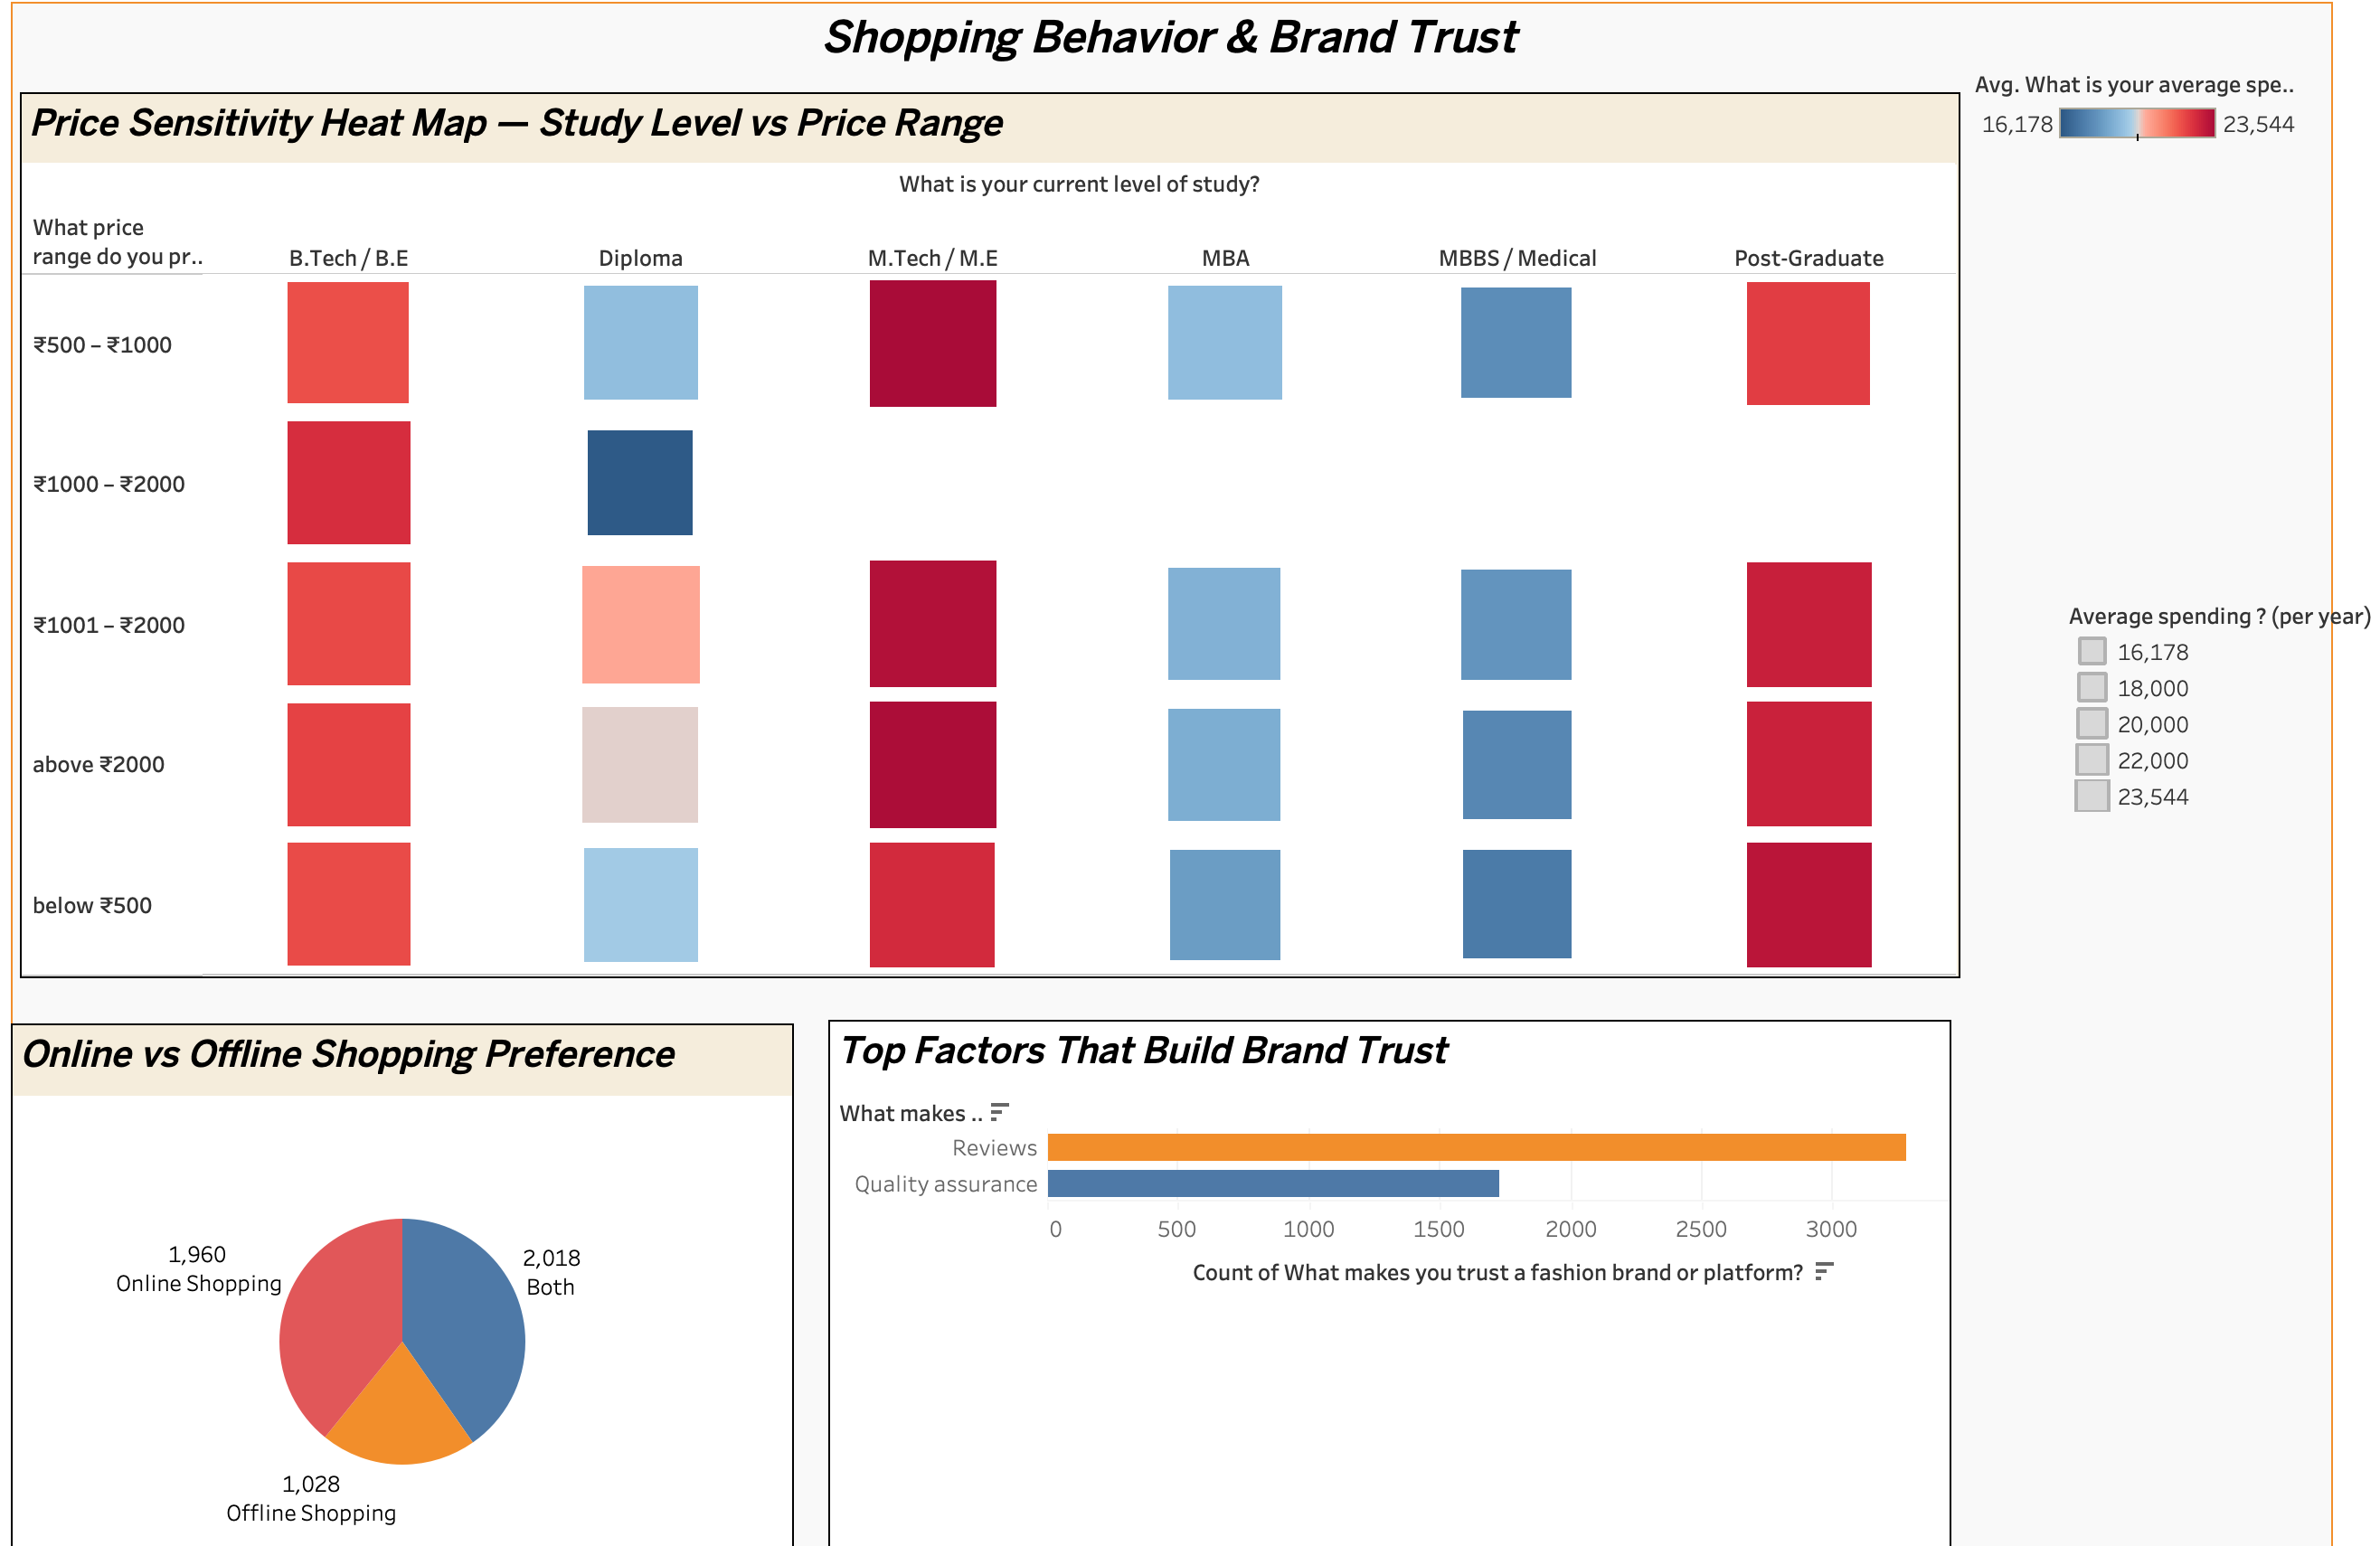

The dashboard page shown, as its layout file describes it:
{"tool":"tableau","page":{"name":"Dashboard 4","canvas":[1300,1000],"ordinal":1},"visuals":[{"type":"title","box":[9,9,1282,37]},{"type":"legend","title":"Price Range Preference by Study Level (Heat Map)","param":"[federated.1f0ar921e5crdw19n65z90w59u7y].[avg:What is your average spending ? (p","box":[1094,45,182,95]},{"type":"worksheet","title":"Price Range Preference by Study Level (Heat Map)","mark":"Automatic","rows":["What price range do you prefer per clothing item?"],"cols":["What is your current level of study?"],"box":[13,58,1073,490]},{"type":"worksheet","title":"Brand Trust Factors (Horizontal Bar)","mark":"Automatic","rows":["What makes you trust a fashion brand or platform?"],"cols":["What makes you trust a fashion brand or platform?"],"box":[460,571,621,316]},{"type":"worksheet","title":"Shopping Method Preference (Donut Chart)","mark":"Pie","box":[8,573,433,313]},{"type":"legend","title":"Shopping Method Preference (Donut Chart)","param":"[federated.1f0ar921e5crdw19n65z90w59u7y].[none:Which shopping method do you pref","box":[13,897,622,98]}]}

Visuals, with their boxes on the page's 1300x1000 design canvas (x1, y1, x2, y2). These are canvas units, not pixel positions in the 2380x1546 screenshot, which may show the page scaled, cropped or inside an application window:
title: detection(9, 9, 1291, 46)
"Price Range Preference by Study Level (Heat Map)" legend: detection(1094, 45, 1276, 140)
"Price Range Preference by Study Level (Heat Map)" worksheet: detection(13, 58, 1086, 548)
"Brand Trust Factors (Horizontal Bar)" worksheet: detection(460, 571, 1081, 887)
"Shopping Method Preference (Donut Chart)" worksheet (Pie marks): detection(8, 573, 441, 886)
"Shopping Method Preference (Donut Chart)" legend: detection(13, 897, 635, 995)
